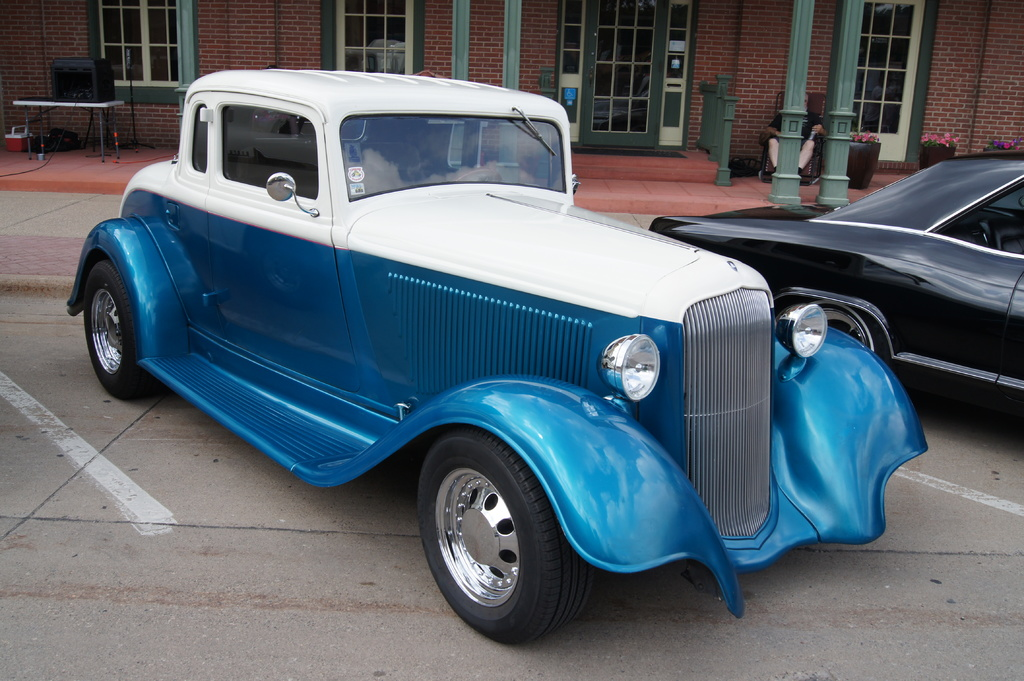Car: (58, 70, 903, 624), (652, 145, 1023, 401)
